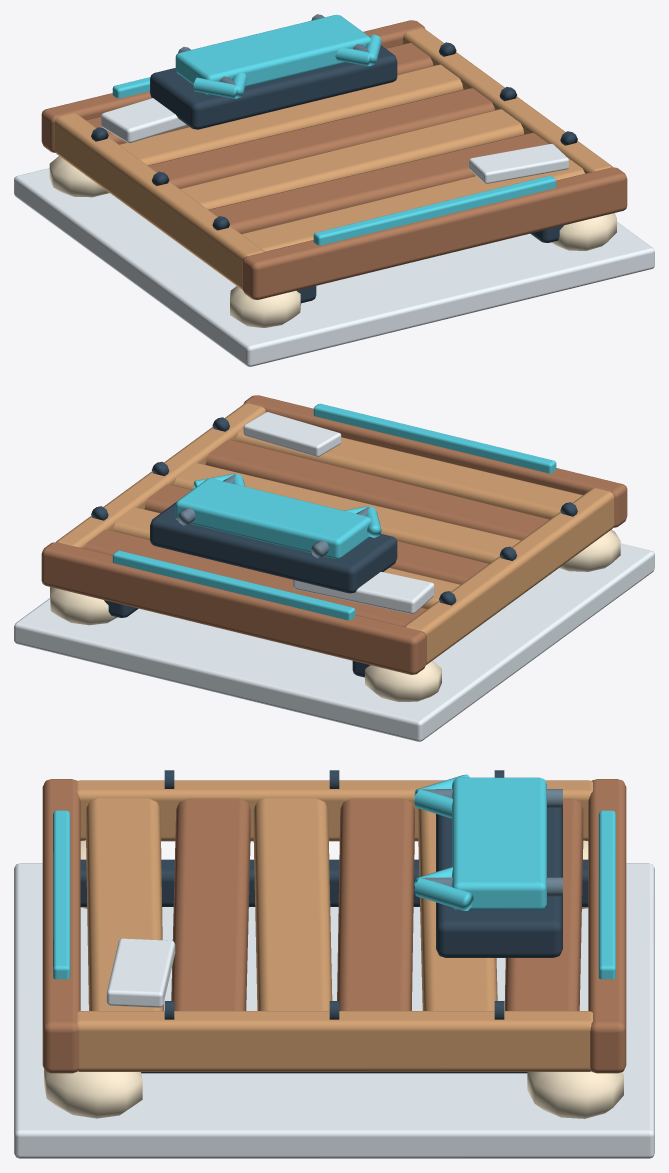
The model's file is pad_input.glb.
The picture shows the model from 3 angles, top to bottom: view 1: azimuth 30°, elevation 25°; view 2: azimuth 150°, elevation 25°; view 3: azimuth 270°, elevation 25°; orthographic projection. The views are drawn at different scales.
Parts seen in each view (by area): view 1: pad_input; view 2: pad_input; view 3: pad_input.
Boxes of the visible parts, x1,y1,x2,y2 form: pad_input: [14, 14, 654, 366]; pad_input: [14, 395, 654, 741]; pad_input: [14, 770, 654, 1158].
Size of the model in its own units: 2.02 by 0.68 by 2.02.
